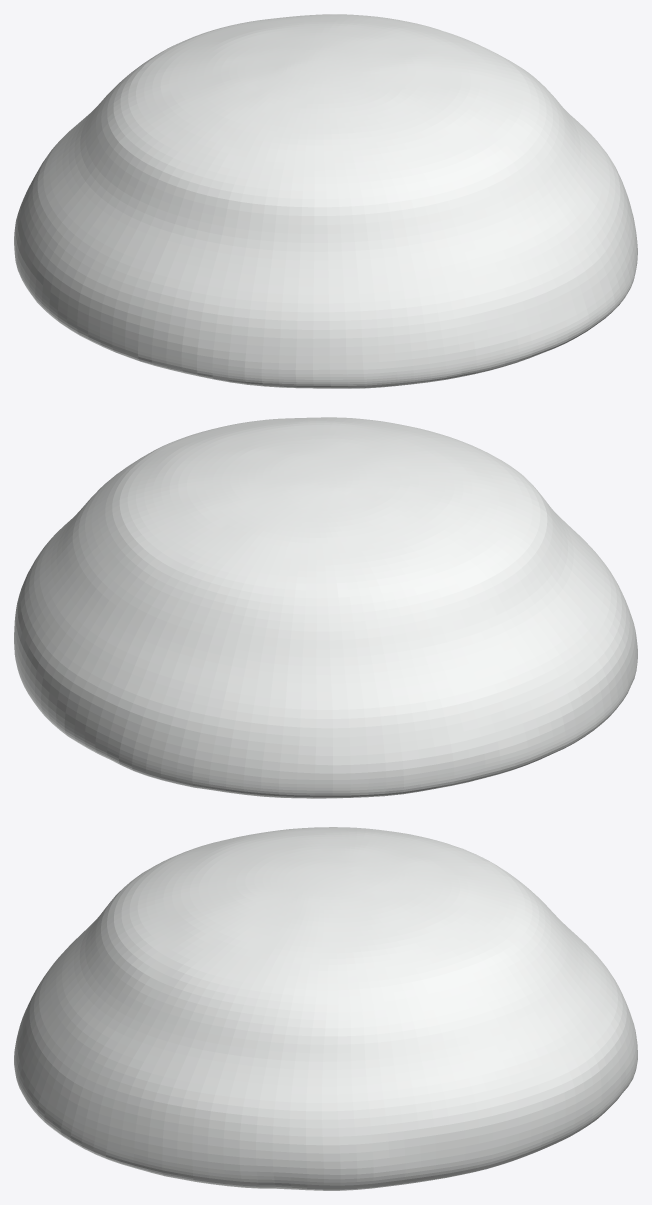
Rendered from topaluminum.gltf.
3 renders of one model, top to bottom at view 1: azimuth 30°, elevation 25°; view 2: azimuth 150°, elevation 25°; view 3: azimuth 270°, elevation 25°, orthographic. The views are drawn at different scales.
Parts seen in each view (by area): view 1: Retopo_middle-top.002; view 2: Retopo_middle-top.002; view 3: Retopo_middle-top.002.
Boxes of the visible parts, x1,y1,x2,y2 form: Retopo_middle-top.002: (14,14,637,388); Retopo_middle-top.002: (14,417,637,798); Retopo_middle-top.002: (14,827,637,1190).
Bounding box in the file's own units: 4.8 × 1.65 × 4.88.
1 material, 1 textured.
